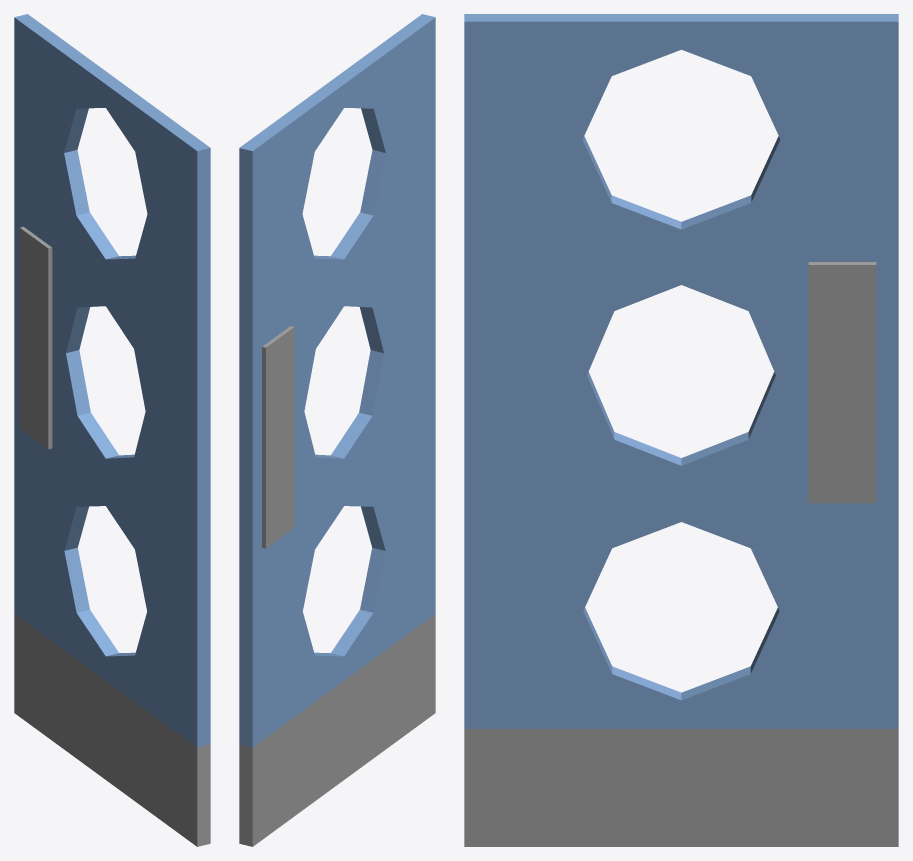
Rendered from Door.fbx.
3 renders of one model, left to right at view 1: azimuth 30°, elevation 25°; view 2: azimuth 150°, elevation 25°; view 3: azimuth 270°, elevation 25°, orthographic. The views are drawn at different scales.
Visible parts, largest first — view 1: pCube271; view 2: pCube271; view 3: pCube271.
Boxes of the visible parts, bbox=[...] form: pCube271: bbox=[14, 14, 210, 846]; pCube271: bbox=[239, 14, 435, 846]; pCube271: bbox=[464, 14, 898, 846].
Bounding box in the file's own units: 7.3 × 217 × 103.
